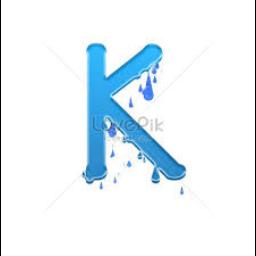k: (68, 32, 196, 204)
